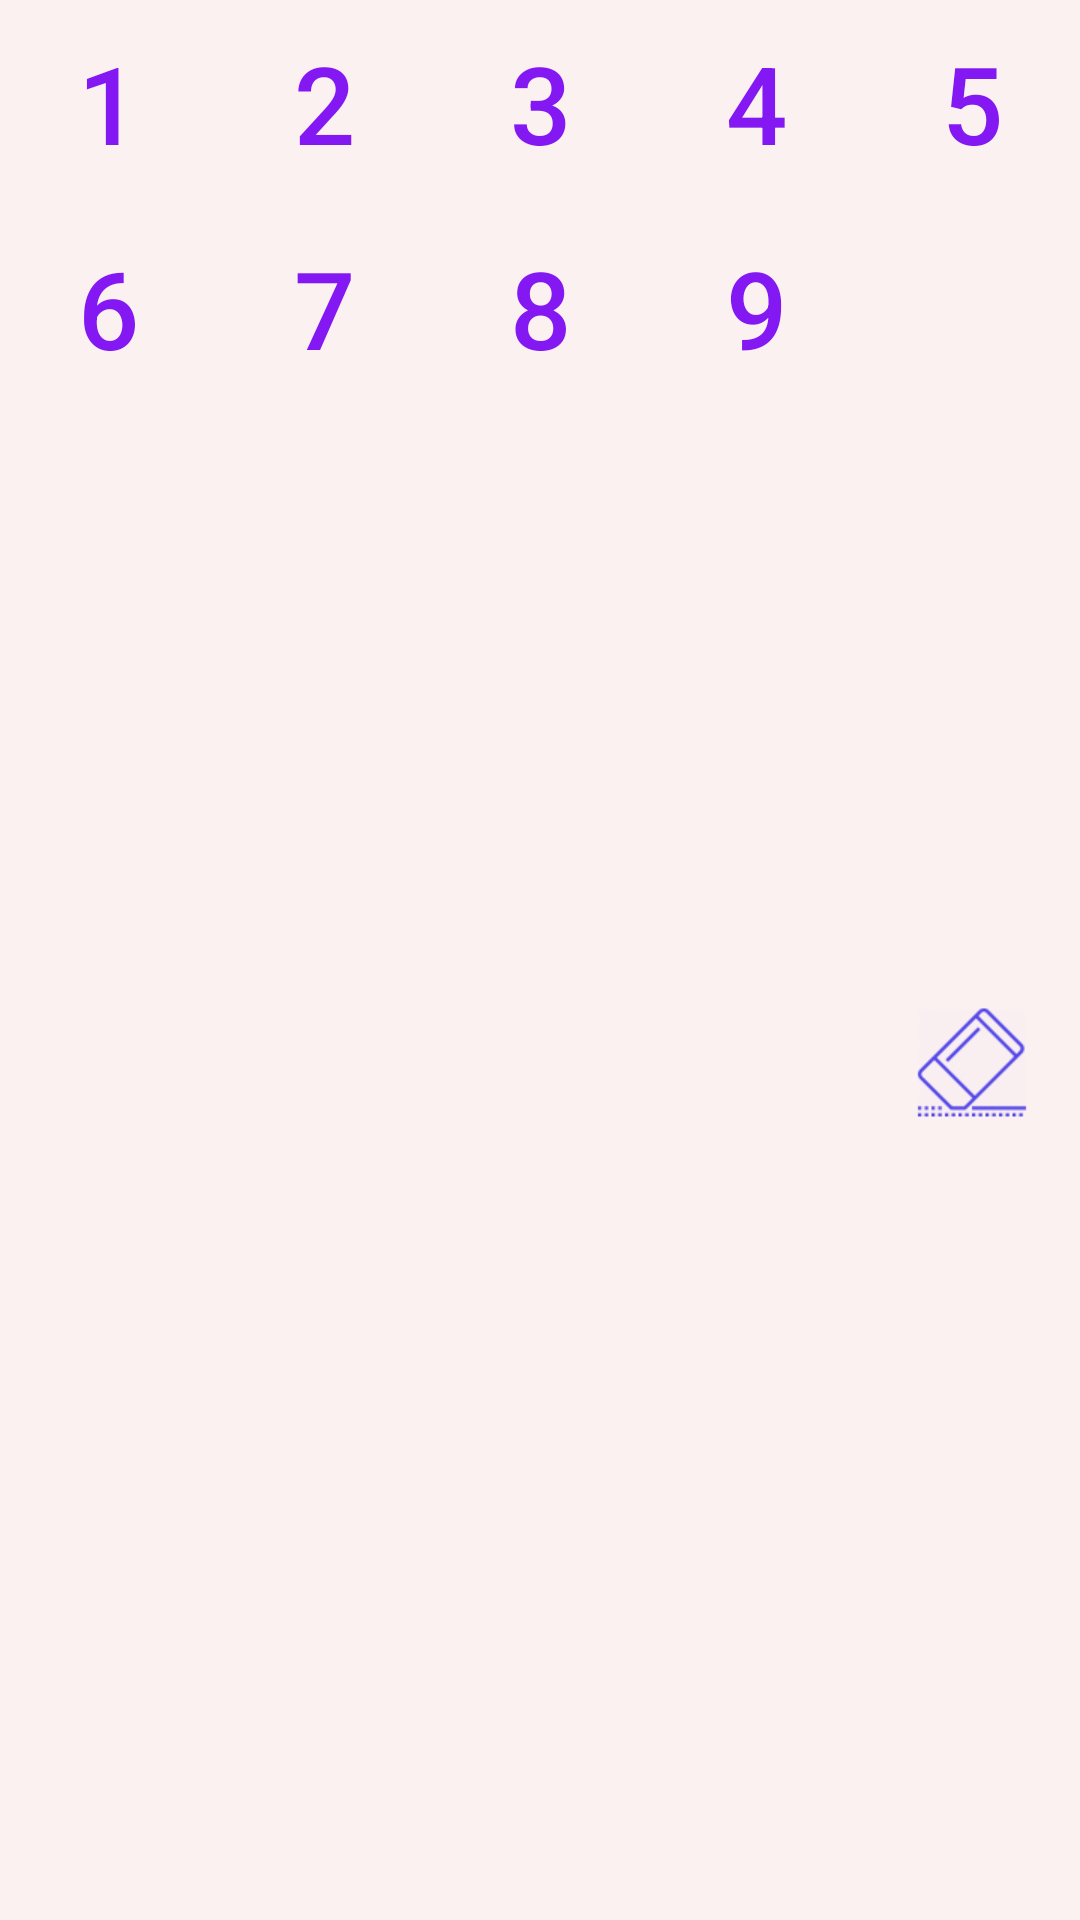

Icon click points for this 1080x1920 phone screenshot, format [x,y]:
eraser: [972,1062]
